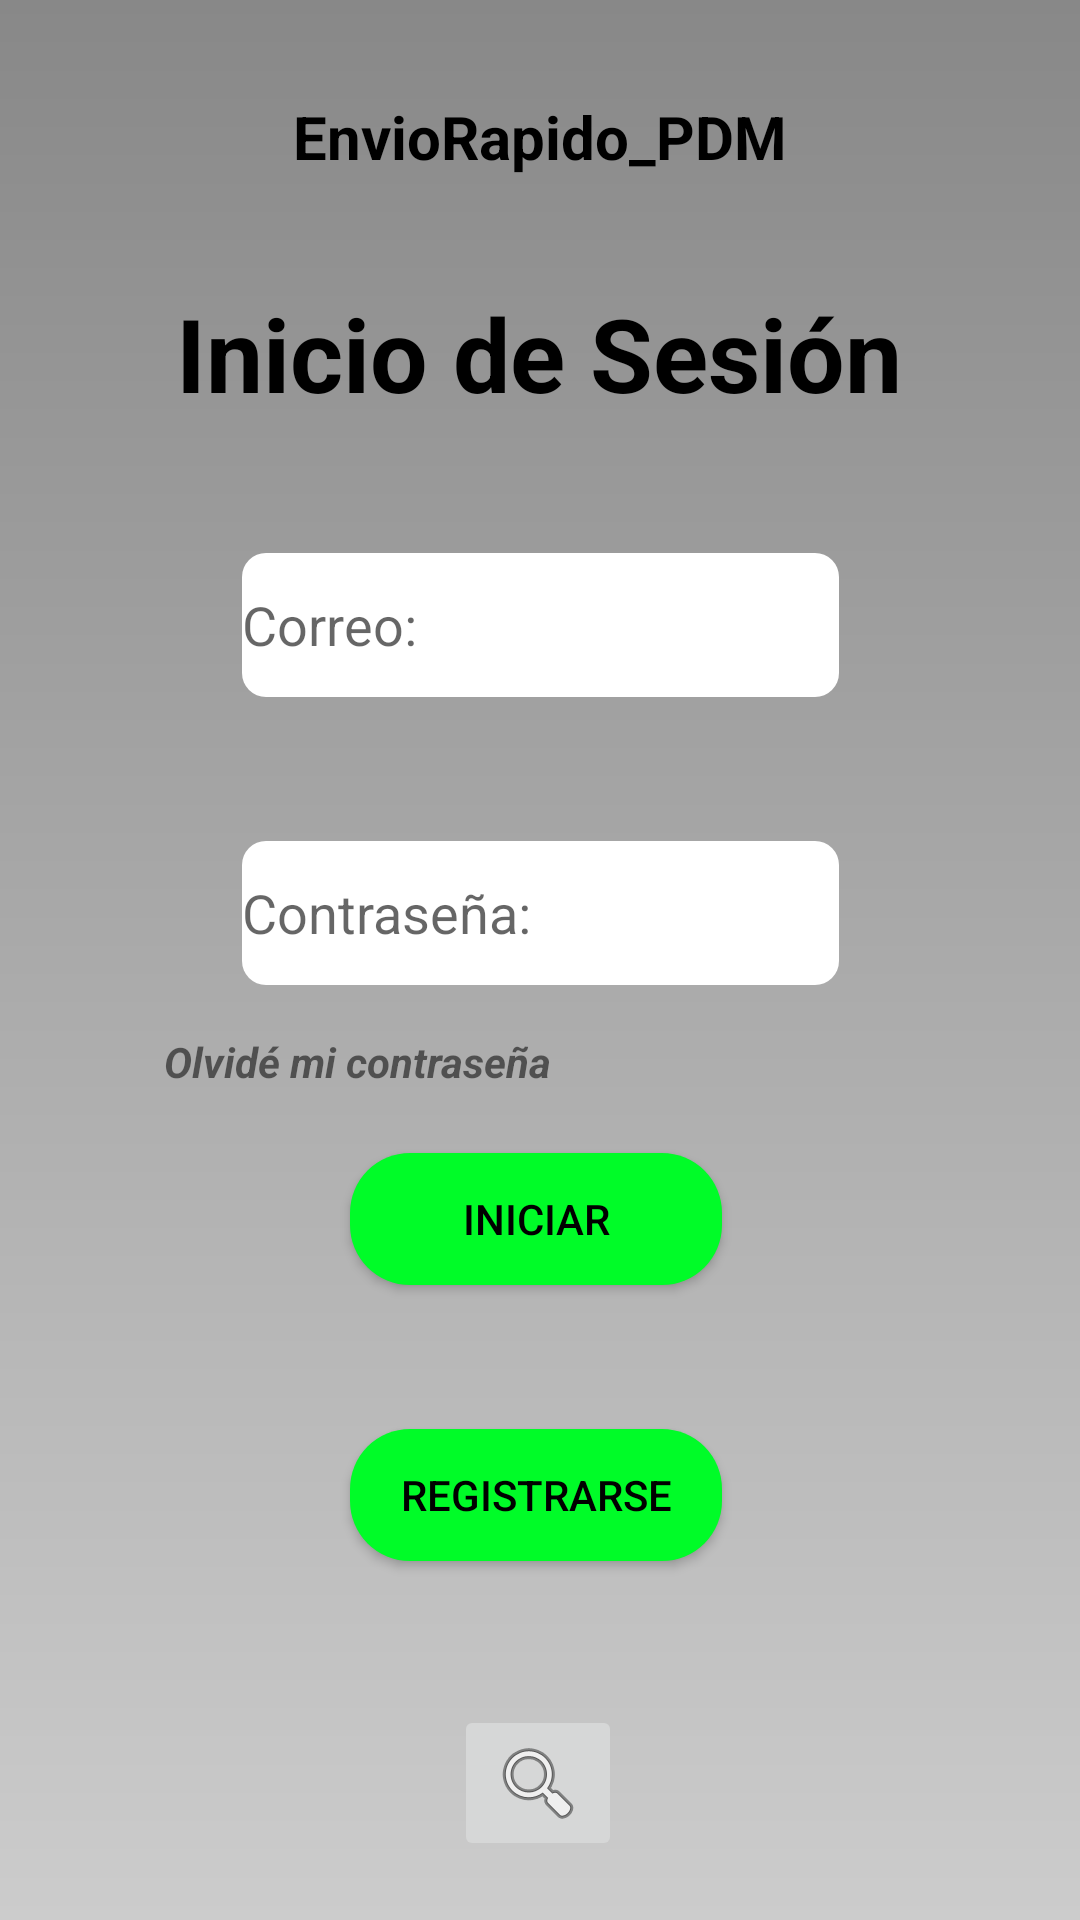

Icons on this 1080w x 1920h Android screen, each with the point to tap as (x=x, y=y):
search: (x=538, y=1783)
